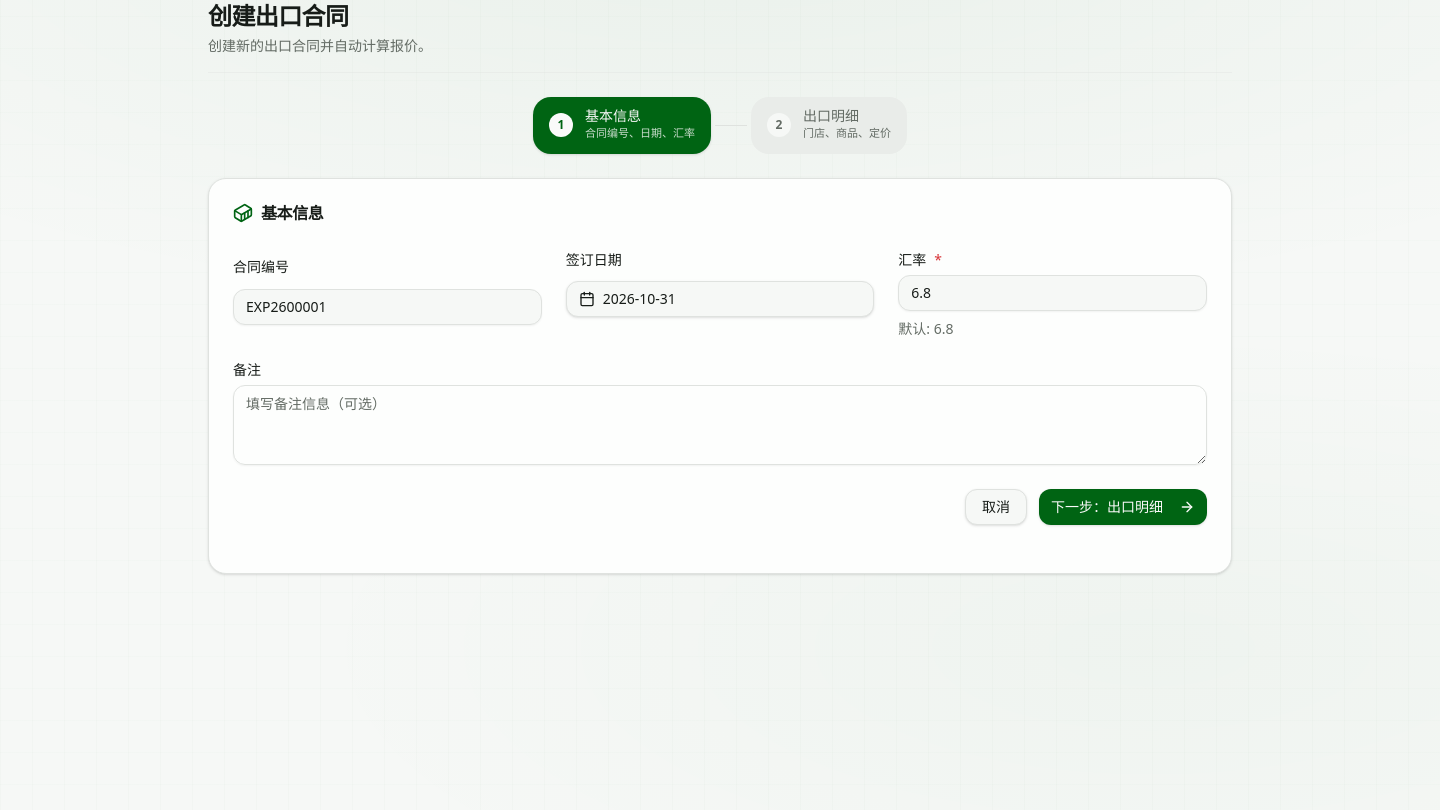
Test: CreateSalesPage 交互逻辑 › 空表单提交后显示字段级校验提示
Click the button "下一步：出口明细" at (1123, 506), box [1039,488,1207,524]
(page scrolled)
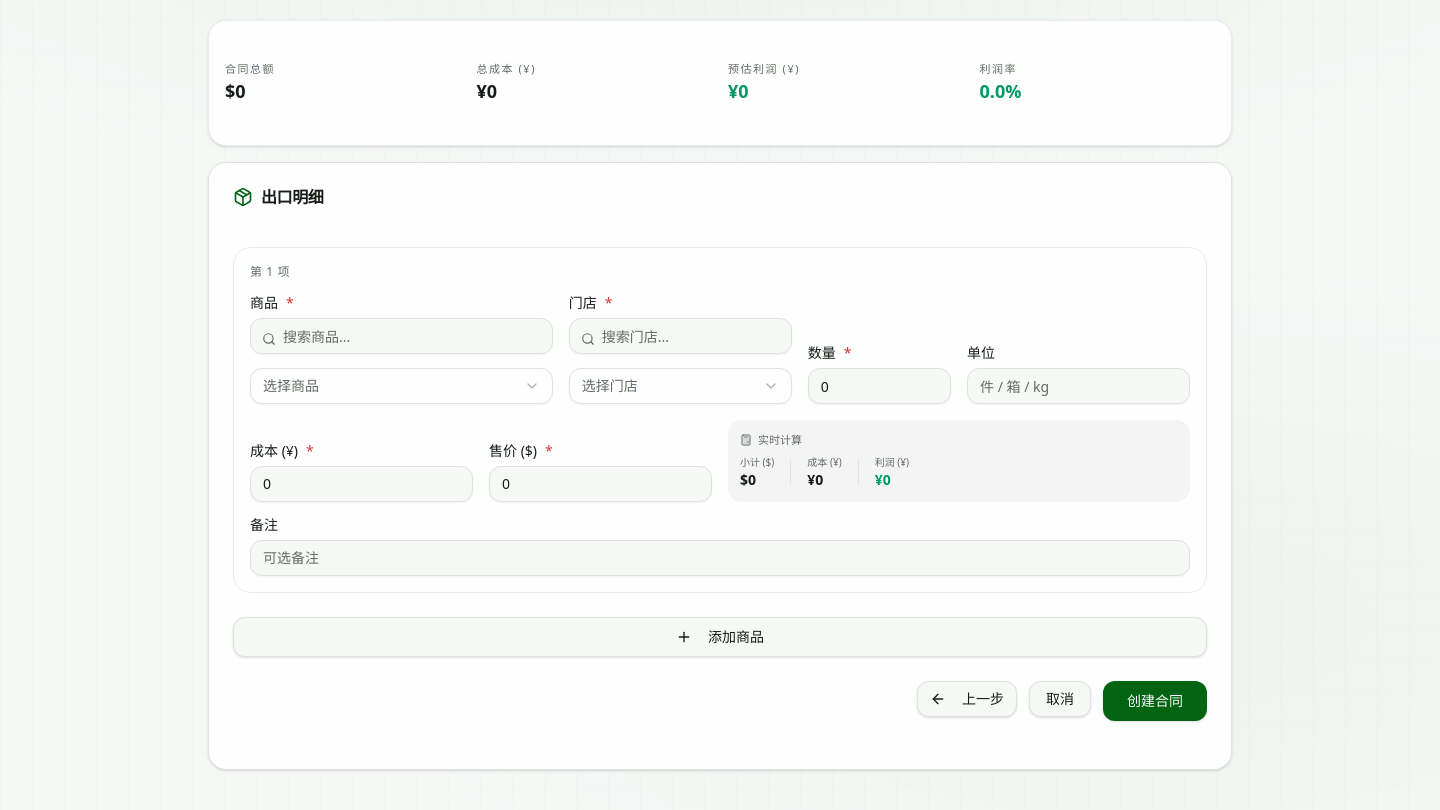
Now the button "创建合同" is shown
Click the button "创建合同" at (1155, 700), box [1103,680,1207,720]
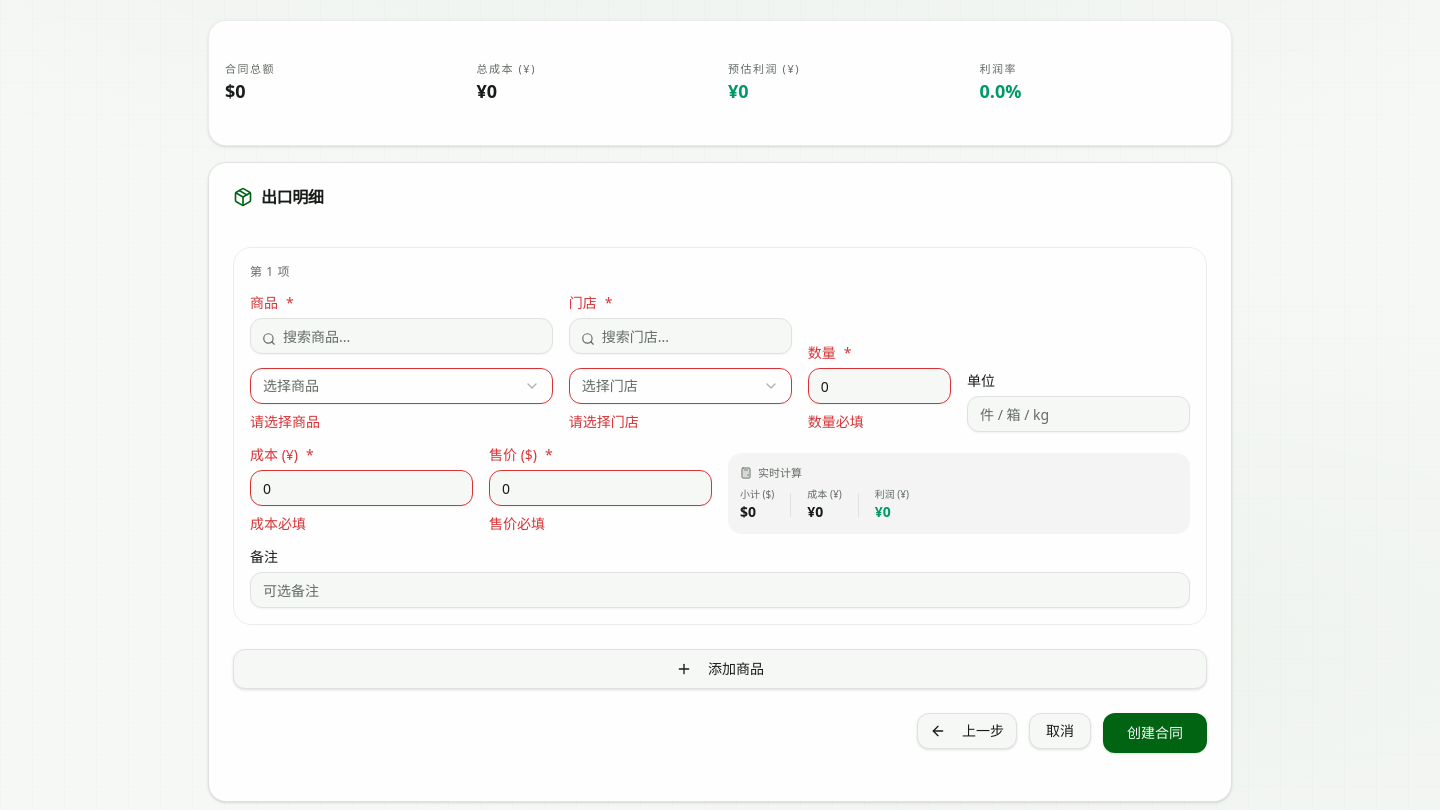
Now the text "请选择商品" is shown, box [250,412,320,431]
Now the text "请选择门店" is shown, box [569,412,639,431]
Now the text "数量必填" is shown, box [808,412,864,431]
